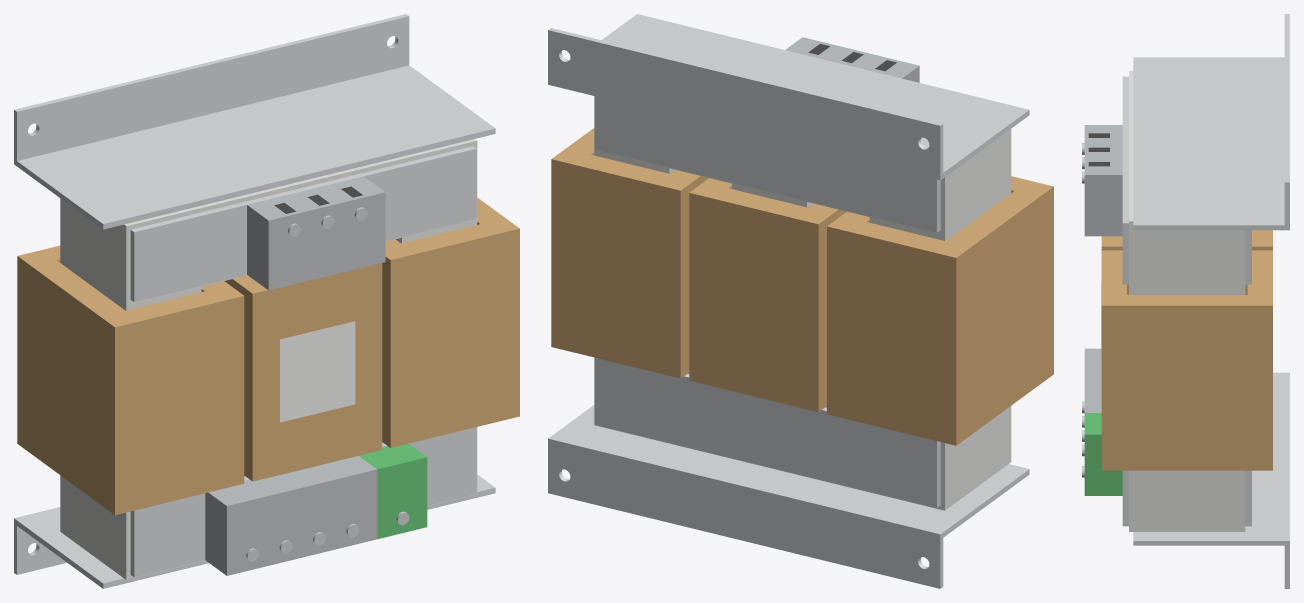
The model's file is xfmr-control-3ph.glb.
3 renders of one model, left to right at view 1: azimuth 30°, elevation 25°; view 2: azimuth 150°, elevation 25°; view 3: azimuth 270°, elevation 25°, orthographic. The views are drawn at different scales.
Visible parts, largest first — view 1: body; view 2: body; view 3: body.
Boxes of the visible parts, x1,y1,x2,y2 form: body: [14, 14, 519, 588]; body: [548, 14, 1053, 588]; body: [1084, 14, 1289, 588].
Size of what is drawn, in the model's own units: 0.194 by 0.212 by 0.0982.
